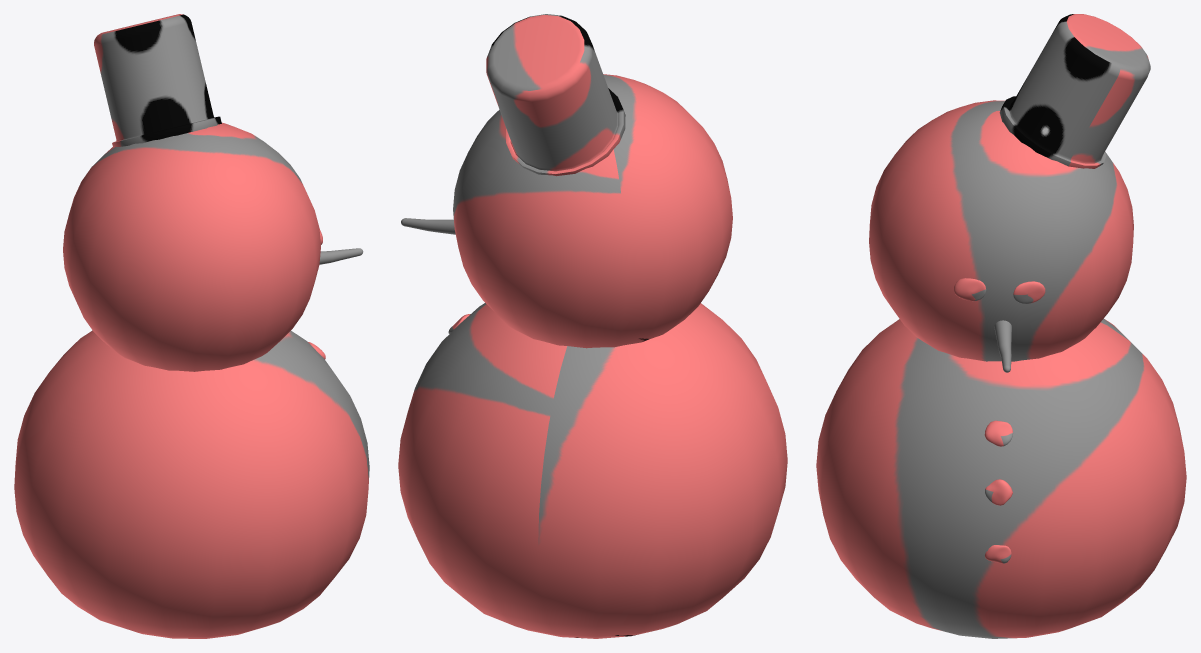
File: snowman.fbx
3 renders of one model, left to right at view 1: azimuth 30°, elevation 25°; view 2: azimuth 150°, elevation 25°; view 3: azimuth 270°, elevation 25°, orthographic. The views are drawn at different scales.
Visible parts, largest first — view 1: snow1, snow2, baketu; view 2: snow1, snow2, baketu, pSphere1; view 3: snow1, snow2, baketu, pSphere1, pSphere2, pSphere4, pSphere3, pSphere5.
Boxes of the visible parts, x1,y1,x2,y2 form: snow1: (14,330,369,638); snow2: (63,122,320,371); baketu: (94,14,221,147); snow1: (398,303,787,638); snow2: (453,74,732,348); baketu: (486,14,625,176); pSphere1: (401,218,455,234); snow1: (816,318,1186,638); snow2: (869,100,1133,361); baketu: (999,14,1150,168); pSphere1: (994,320,1011,372); pSphere2: (954,278,986,301); pSphere4: (984,420,1012,446); pSphere3: (1013,281,1045,303); pSphere5: (985,479,1012,505).
Size of the model in its own units: 124 by 202 by 117.
